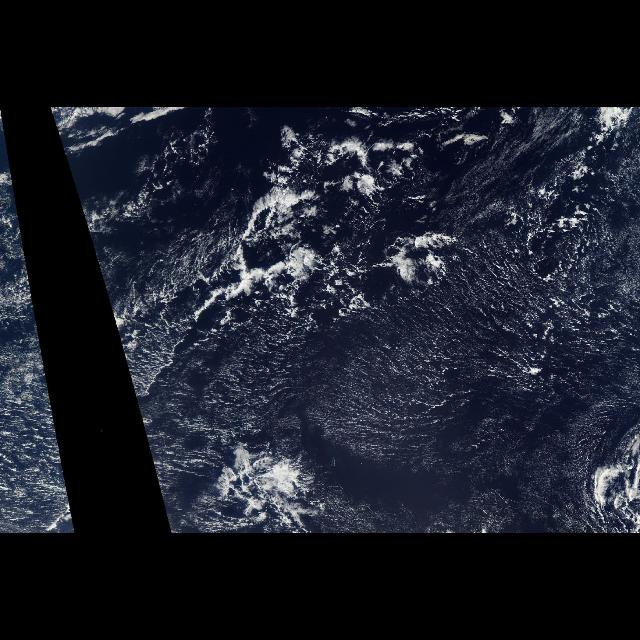Gravel: (470, 234, 640, 394), (324, 340, 468, 468)
Sugar: (115, 113, 640, 487), (2, 324, 66, 472)
